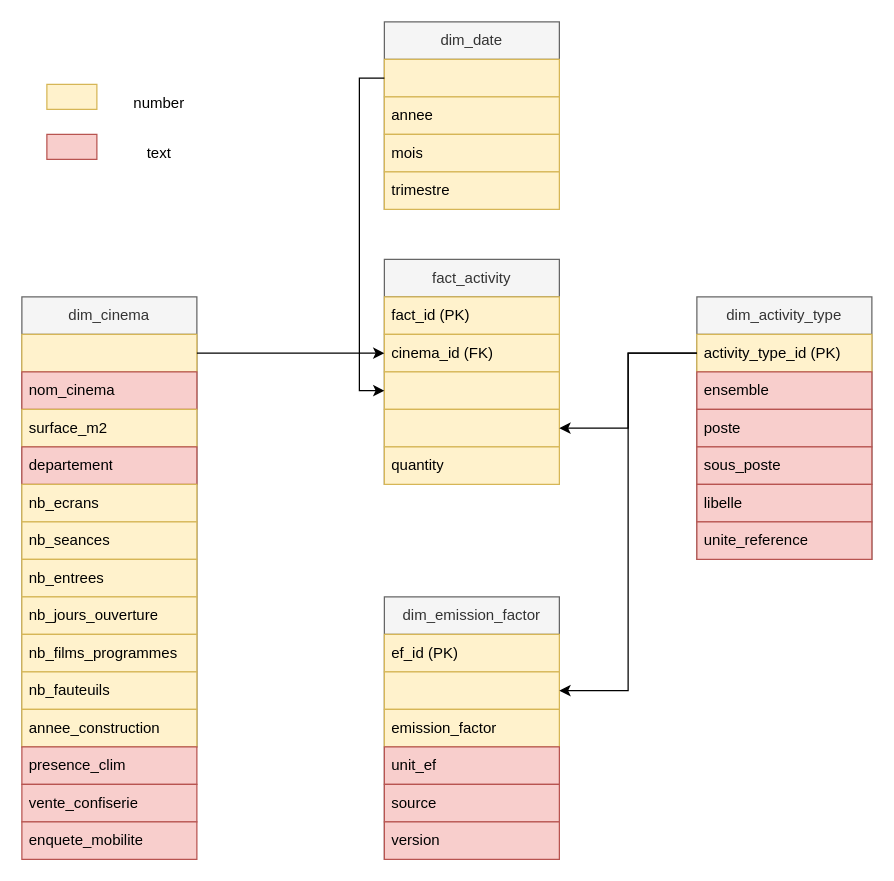
The diagram is 894 pixels wide and 881 high, and some of its shapes have lost their labels. Each missing label, with the centre of its shape:
activity_type_id: the point at 471,690
activity_type_id (FK): the point at 471,427
cinema_id (PK): the point at 109,352
date_id (FK): the point at 471,390
date_id (PK): the point at 471,77
